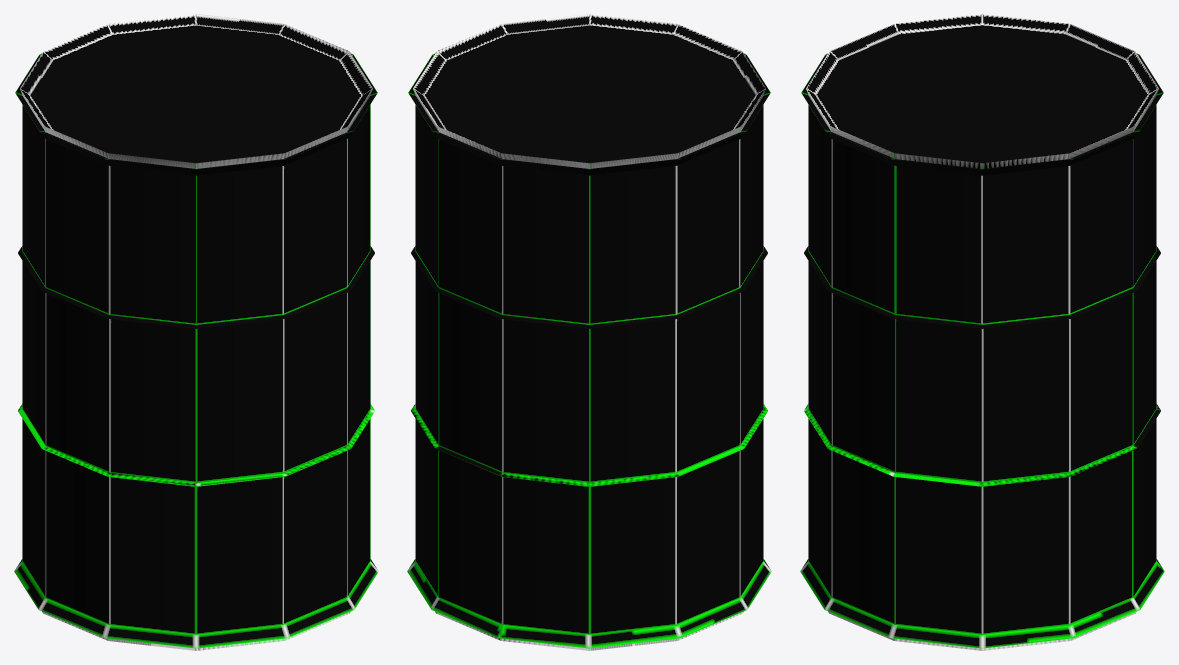
The model's file is barrel.FBX.
3 renders of one model, left to right at view 1: azimuth 30°, elevation 25°; view 2: azimuth 150°, elevation 25°; view 3: azimuth 270°, elevation 25°, orthographic.
Visible parts, largest first — view 1: Cylinder001; view 2: Cylinder001; view 3: Cylinder001.
Boxes of the visible parts, <box> form: Cylinder001: <box>14,14,378,650</box>; Cylinder001: <box>407,14,771,650</box>; Cylinder001: <box>800,14,1164,650</box>.
Size of the model in its own units: 824 by 1216 by 824.
